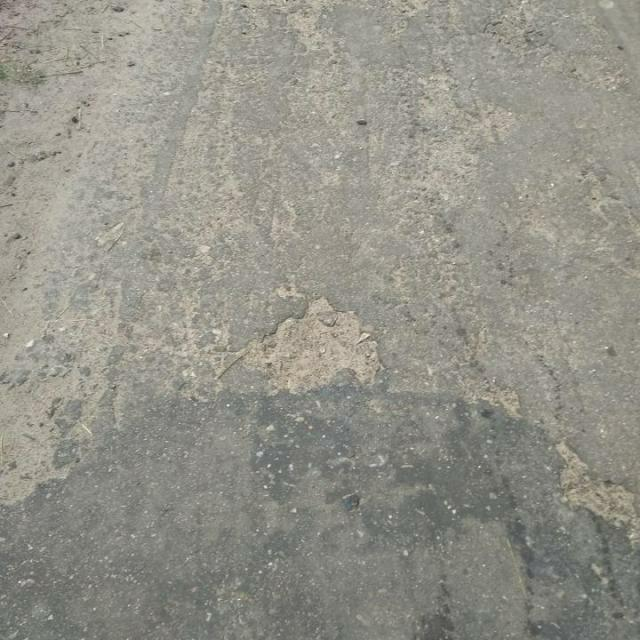Pothole: (257, 290, 386, 393), (566, 480, 639, 524)
